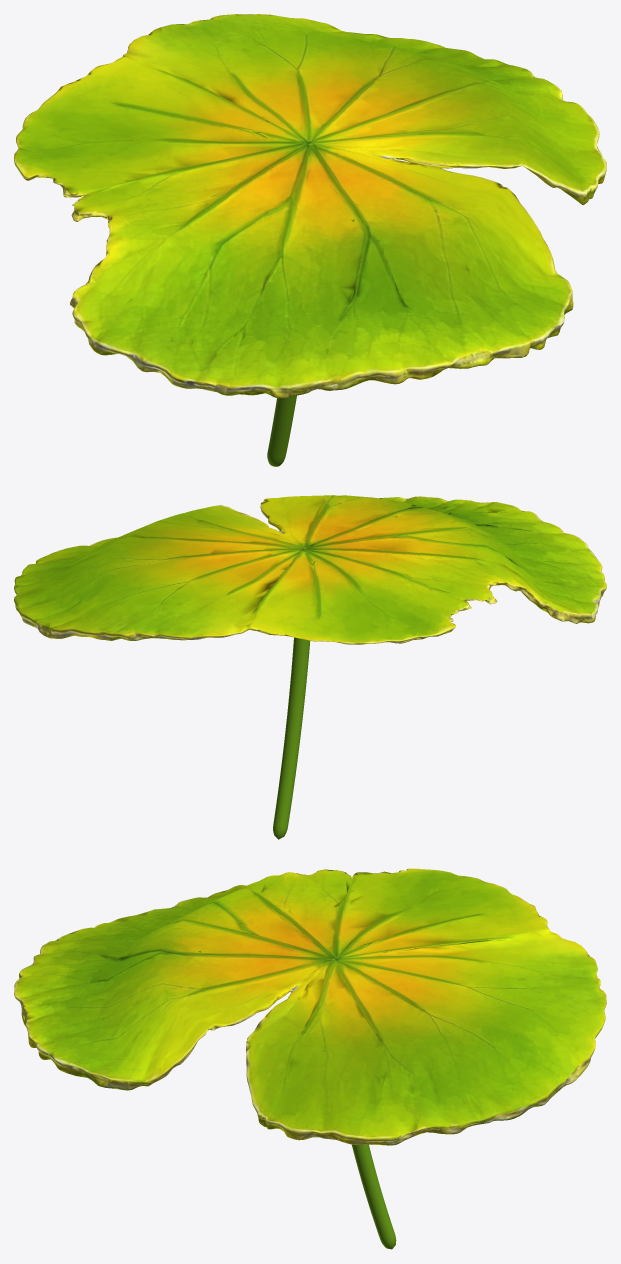
The picture shows the model from 3 angles, top to bottom: view 1: azimuth 30°, elevation 25°; view 2: azimuth 150°, elevation 25°; view 3: azimuth 270°, elevation 25°; orthographic projection. The views are drawn at different scales.
Parts seen in each view (by area): view 1: leaf; view 2: leaf; view 3: leaf.
Part boxes in pixels (left/top/right/bottom): leaf: left=14, top=14, right=606, bottom=466; leaf: left=14, top=495, right=606, bottom=839; leaf: left=14, top=868, right=606, bottom=1249.
Bounding box in the file's own units: 2.82 × 1.59 × 2.88.
Materials: 1 (1 with a texture image).
